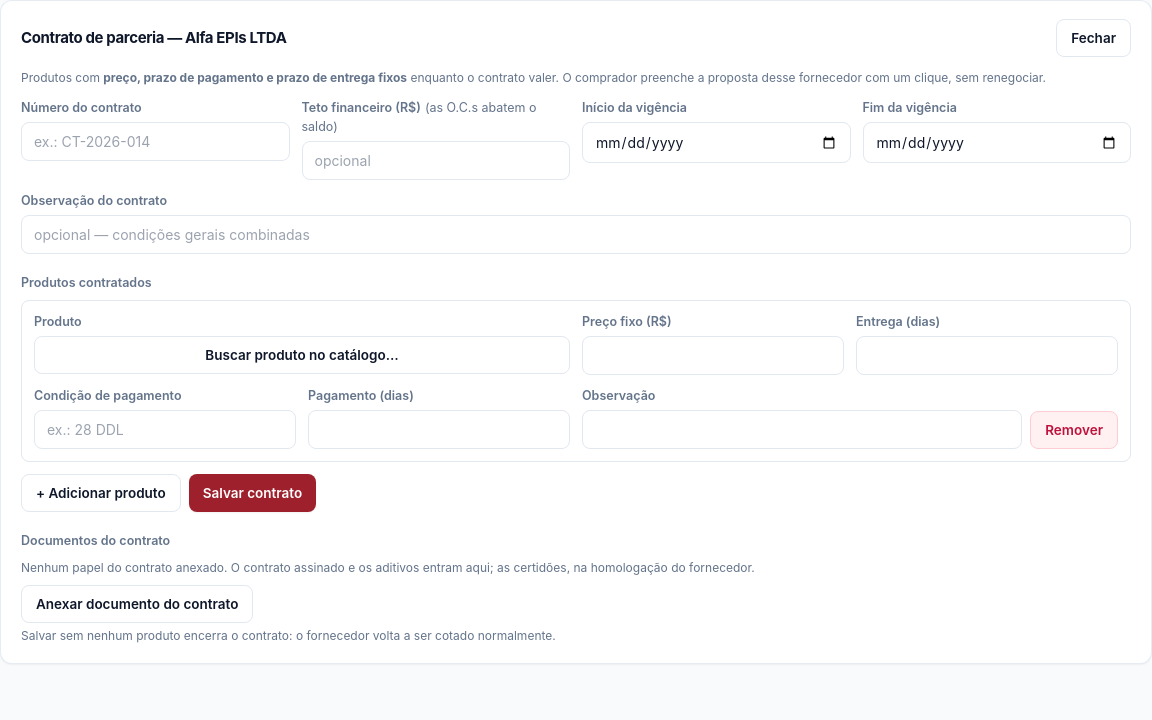
o produto do contrato se escolhe buscando › escolher traz o produto para a linha, com código e unidade
This screenshot has width=1152, height=720.
Click the button with aria-label "Buscar produto do contrato" at (302, 355), box x1=34 y1=336 x2=570 y2=374
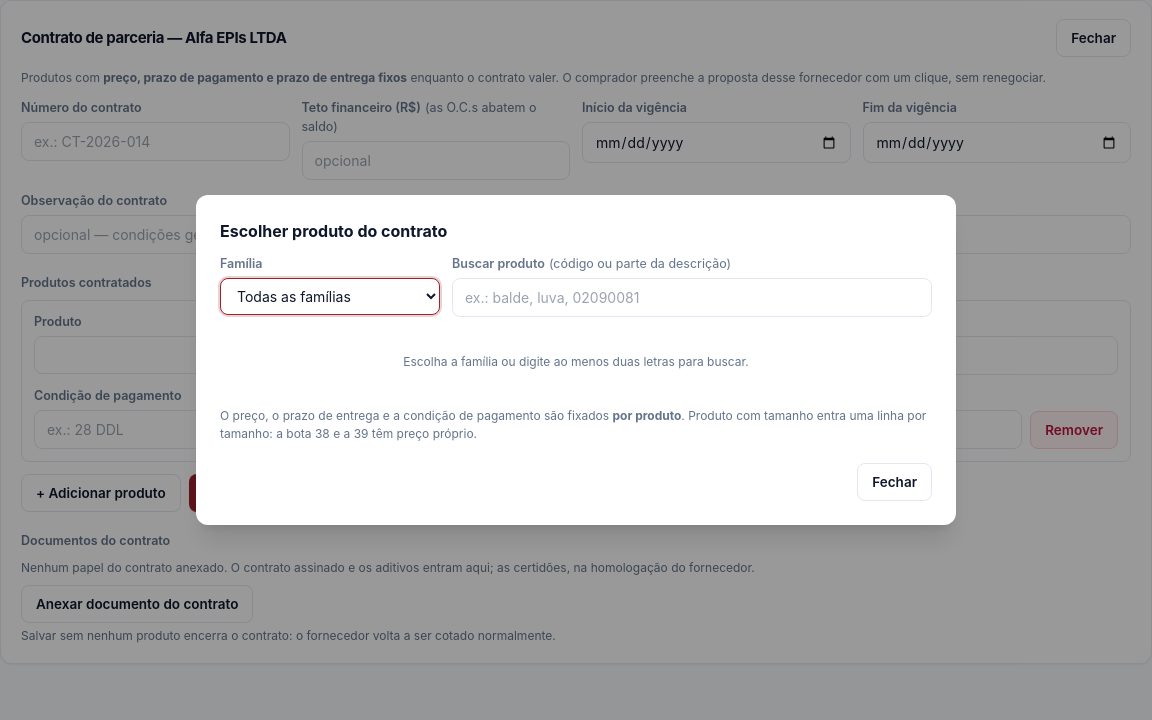
Type "balde" into the field labelled "Buscar produto(código ou parte da descrição)" at (692, 297), box x1=452 y1=278 x2=932 y2=317
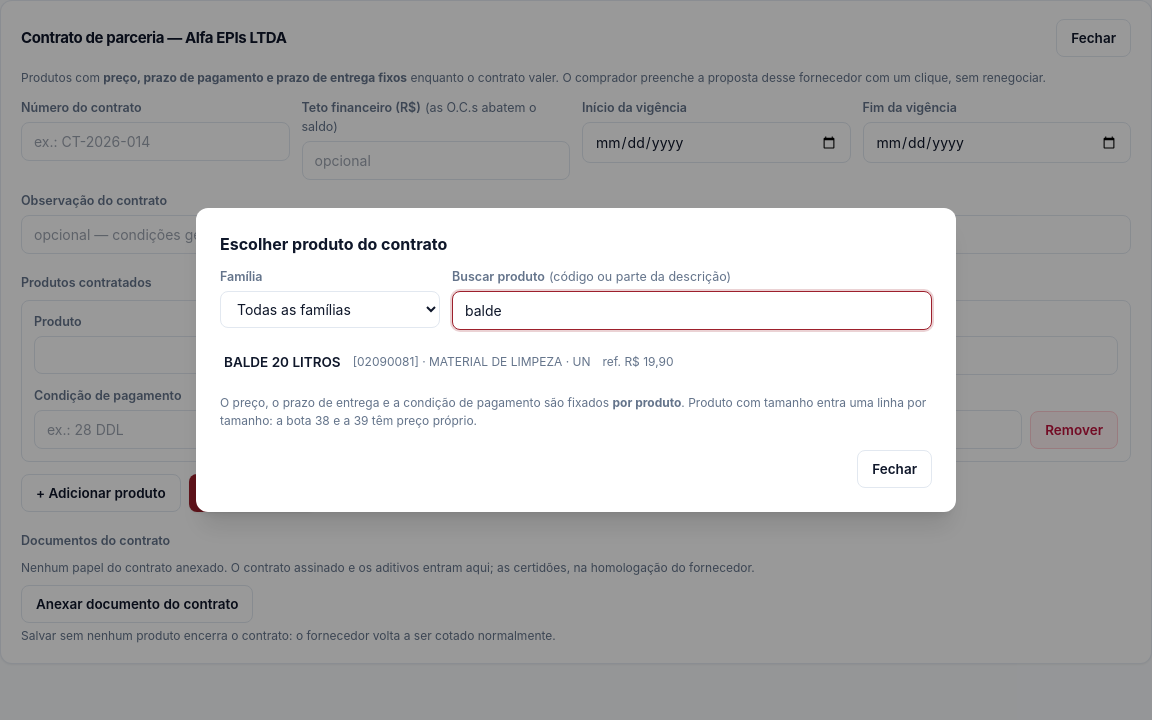
Click the text "BALDE 20 LITROS" at (282, 362), box x1=224 y1=352 x2=341 y2=372
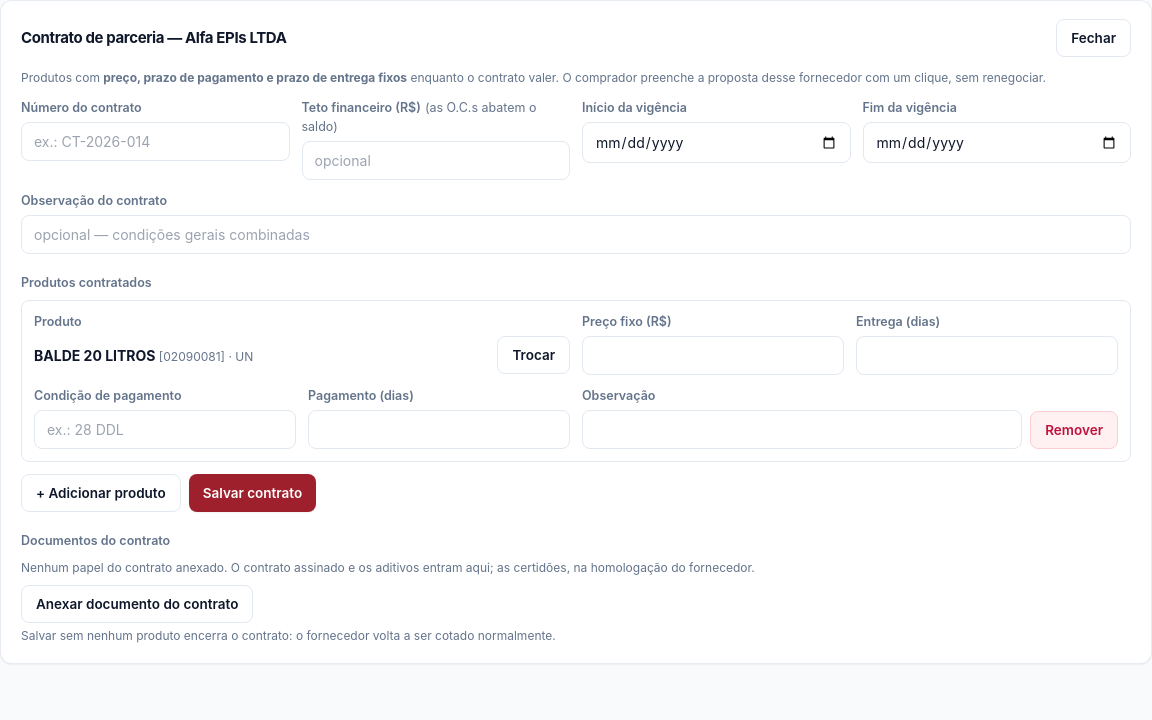
Check: the dialog is gone
Check: the text "BALDE 20 LITROS" shows "[02090081]", box x1=34 y1=347 x2=156 y2=364
Check: the text "BALDE 20 LITROS" shows "UN", box x1=225 y1=349 x2=253 y2=364
